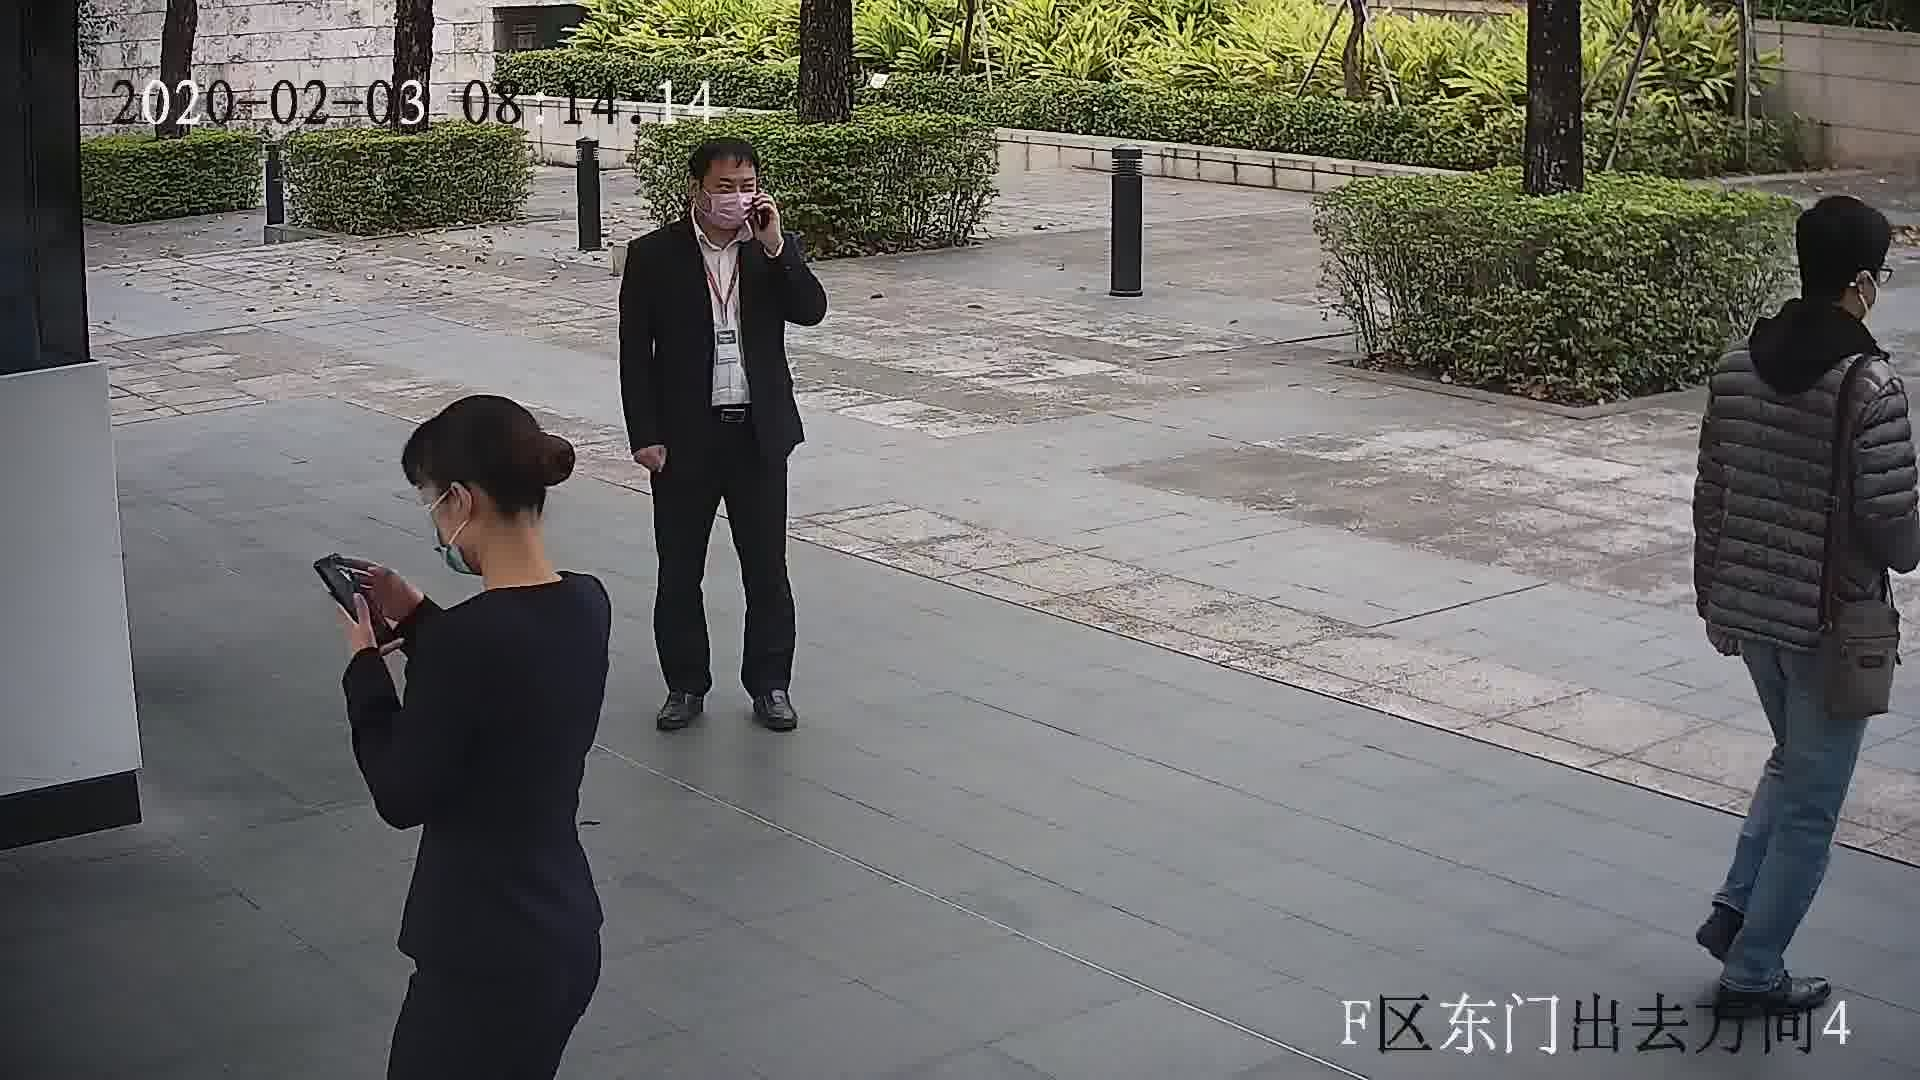face: (694, 160, 762, 229)
mask: (706, 188, 754, 232)
person: (393, 386, 621, 671), (1710, 194, 1914, 424), (630, 138, 799, 285)
